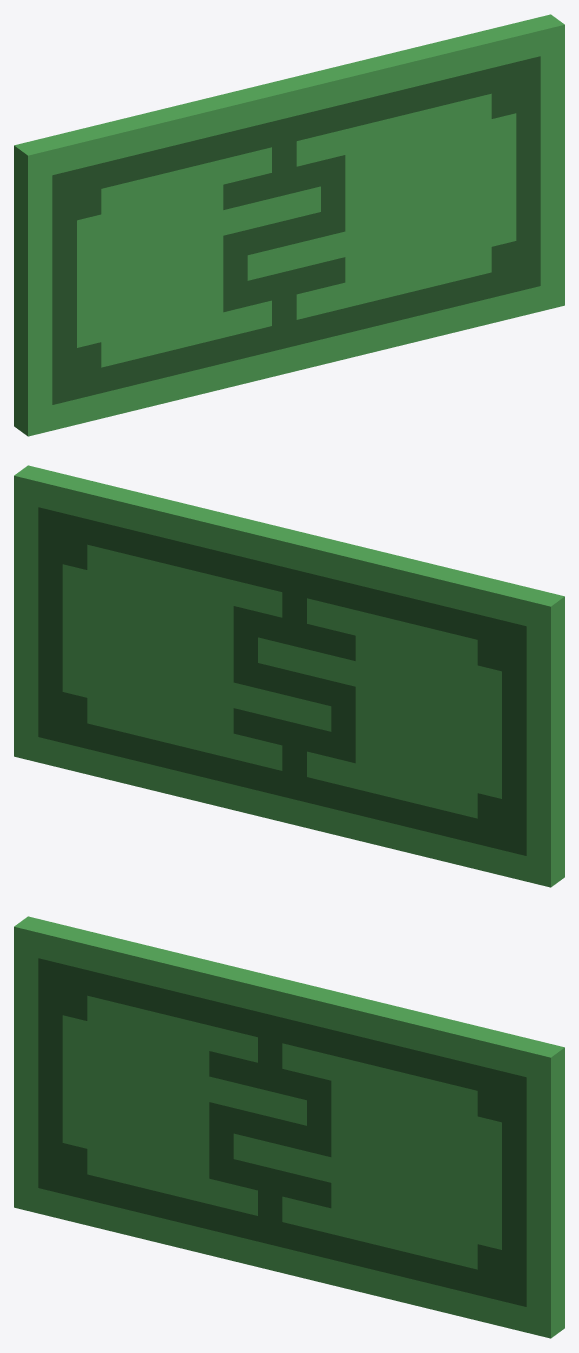
Rendered from money.obj.
3 renders of one model, top to bottom at view 1: azimuth 30°, elevation 25°; view 2: azimuth 150°, elevation 25°; view 3: azimuth 330°, elevation 25°, orthographic.
Bounding box in the file's own units: 2.2 × 1.1 × 0.1.
Materials: 1 (1 with a texture image).
